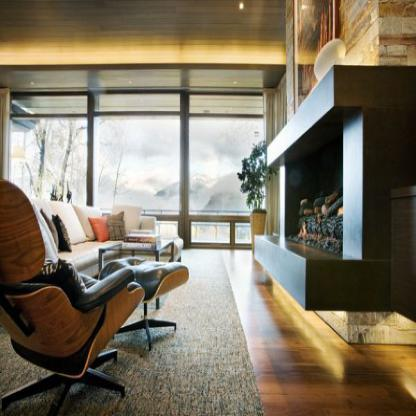chair: (0, 177, 149, 416)
sofa: (0, 191, 190, 286)
table: (98, 257, 193, 347)
